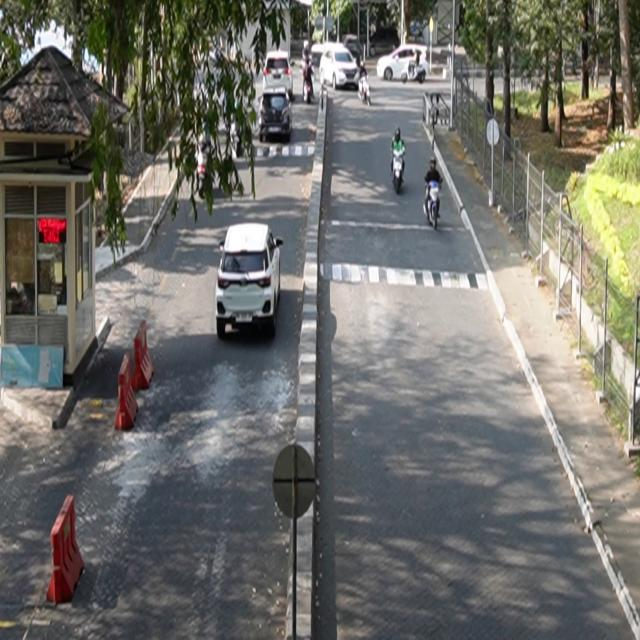car: (216, 223, 284, 340), (378, 45, 431, 84), (259, 88, 293, 143), (320, 45, 360, 91), (264, 51, 295, 101)
